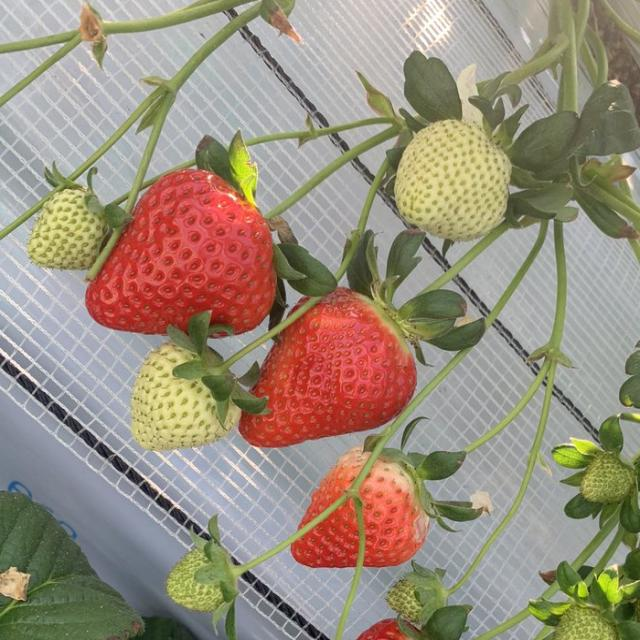Ripe Strawberry: (86, 171, 277, 337), (237, 286, 418, 448), (292, 452, 433, 568), (351, 617, 434, 640)
